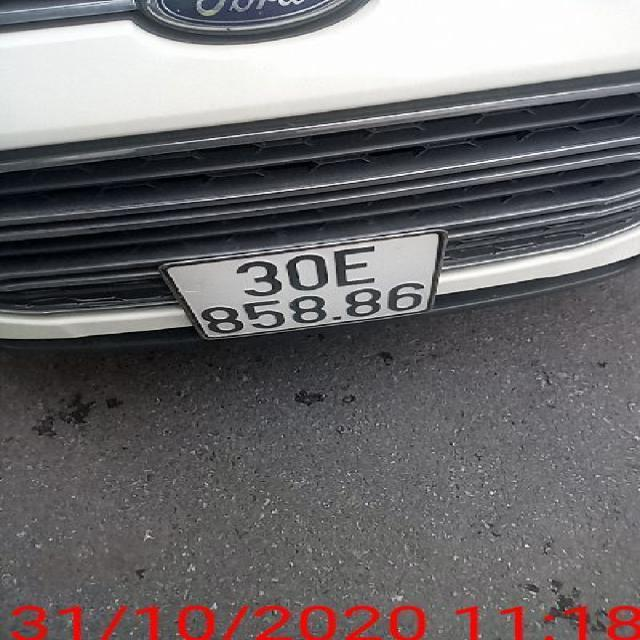bien_so_oto: (162, 227, 446, 342)
